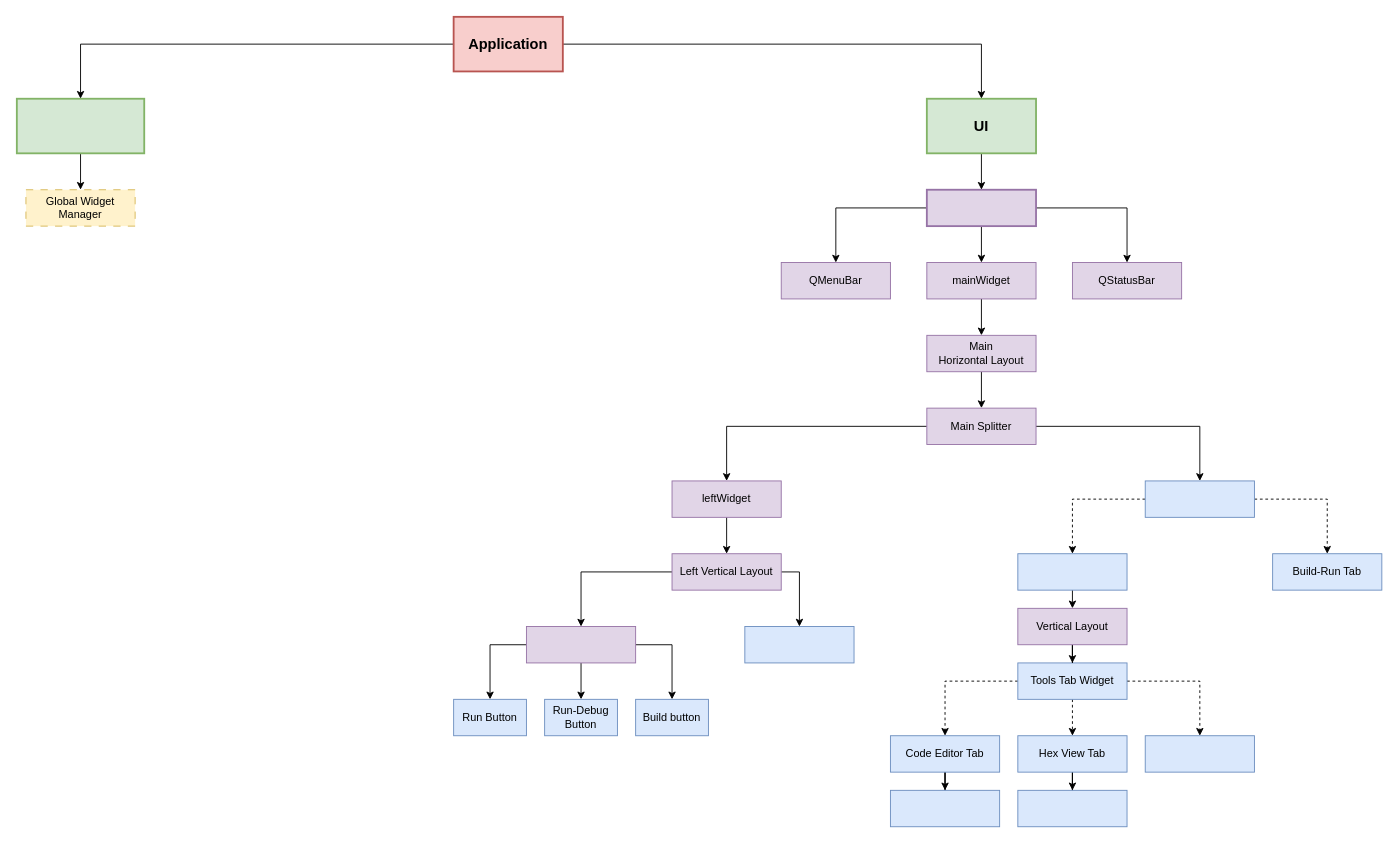
Image size: 1398x843. Some labels were removed from this diagram. The centre of each missing label's shape, as x and y in pixels:
Button Horizontal Layout: point (581, 644)
Core / Services: point (80, 125)
Disassembler Tab: point (1199, 753)
File Tab: point (1072, 571)
Files Tab Widget: point (1199, 498)
Files Tree View: point (799, 644)
Main Window: point (980, 207)
QCodeEditor: point (945, 808)
QHexView: point (1072, 808)
